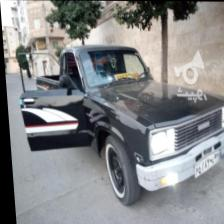plate: (190, 147, 222, 178)
